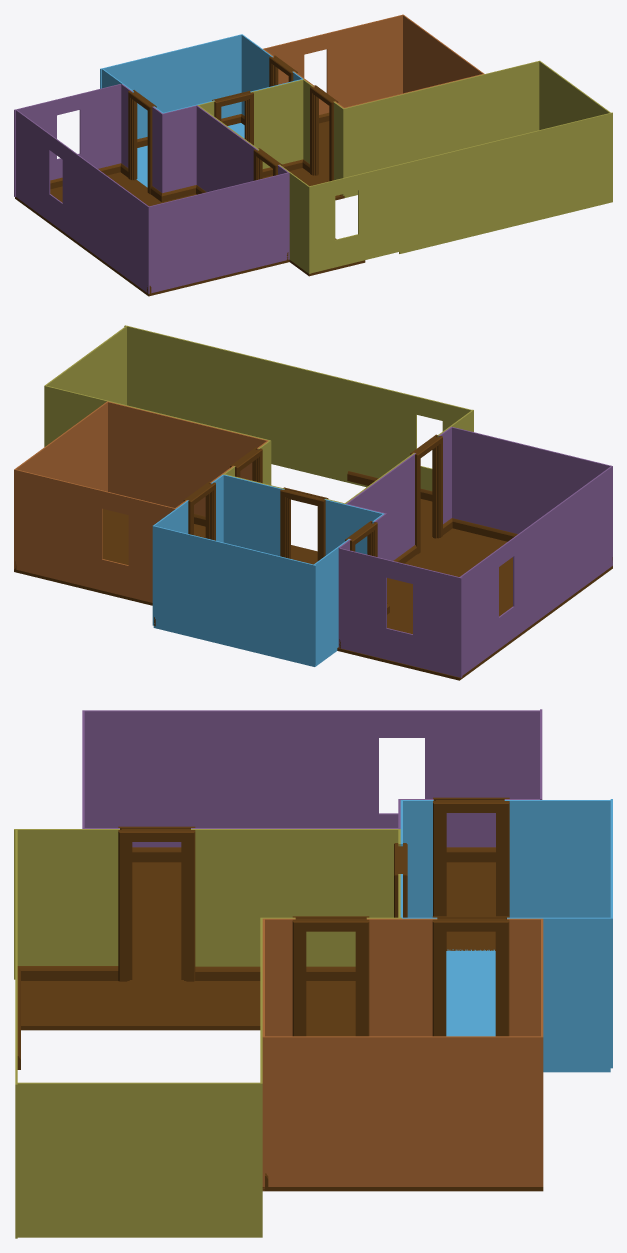
The model's file is house_upstairs_07.fbx.
3 views of the same model, one above another, from view 1: azimuth 30°, elevation 25°; view 2: azimuth 150°, elevation 25°; view 3: azimuth 270°, elevation 25° (orthographic). The views are drawn at different scales.
Visible parts, largest first — view 1: polySurface5917; view 2: polySurface5917; view 3: polySurface5917.
Boxes of the visible parts, x1,y1,x2,y2 form: polySurface5917: (14, 14, 612, 296); polySurface5917: (14, 325, 612, 680); polySurface5917: (14, 709, 612, 1238).
Bounding box in the file's own units: 18.82 × 3.6 × 12.7.
